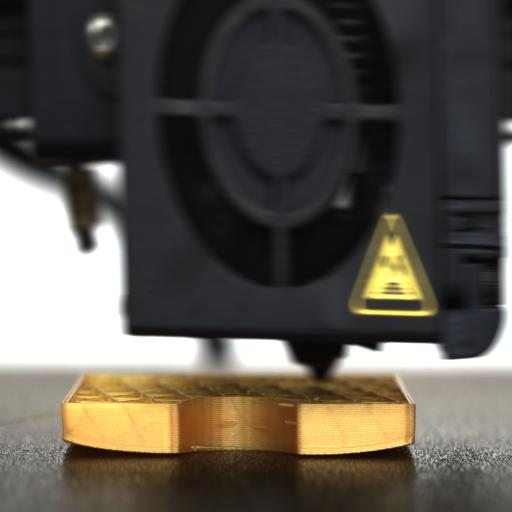warp: (353, 425, 423, 467), (50, 427, 130, 459)
